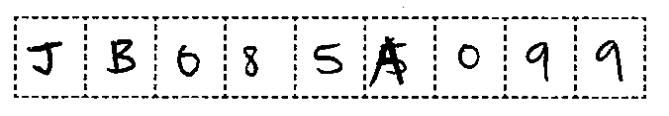0: (451, 37, 486, 78), (173, 40, 202, 81)
5: (309, 37, 350, 78)
8: (233, 39, 268, 84)
9: (588, 36, 628, 84), (518, 38, 557, 84)
A: (368, 32, 413, 88)
B: (98, 34, 143, 78)
J: (22, 38, 69, 80)
